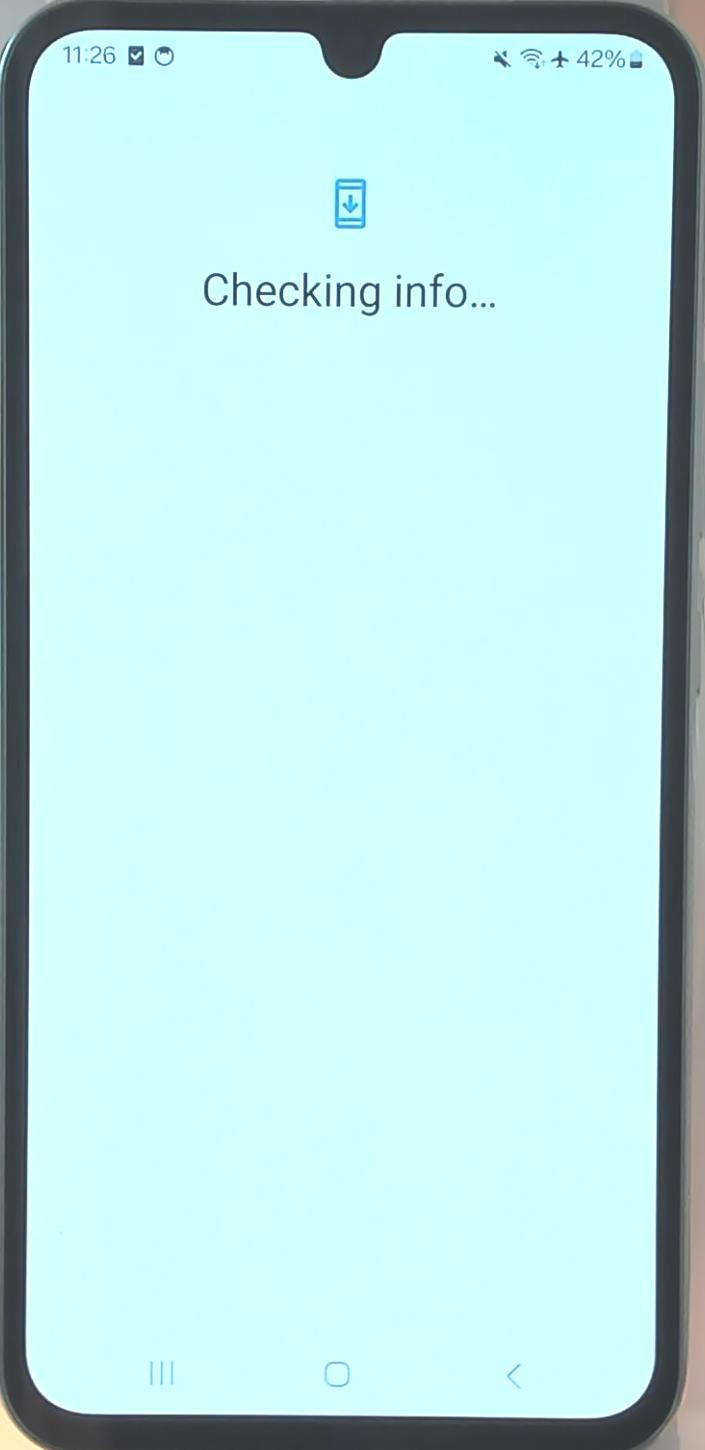CommunBotton: (488, 1346, 536, 1406), (134, 1342, 180, 1398), (328, 1352, 372, 1396)
